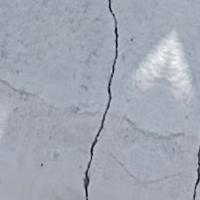crack: (71, 0, 140, 199)
